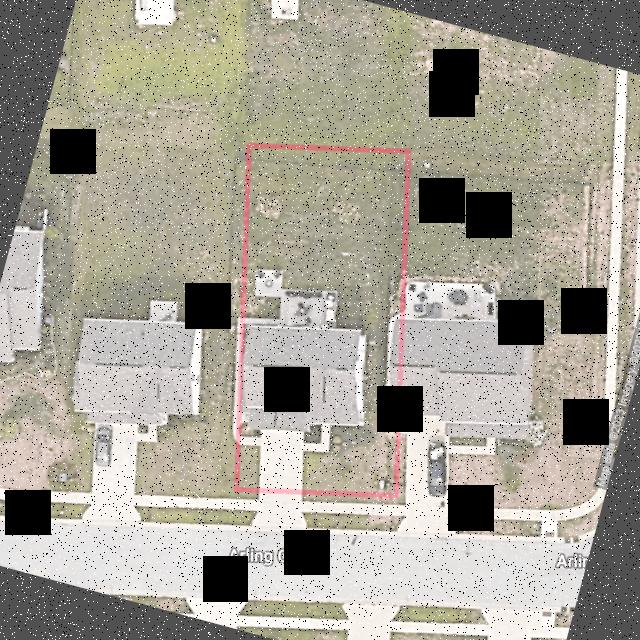Driveway: (239, 424, 330, 489)
Extra Driveway: (250, 492, 305, 527)
Extra Lawn: (300, 511, 395, 531), (300, 494, 396, 504), (233, 509, 257, 525), (233, 491, 258, 500)
Extra Sidewalk: (300, 501, 396, 515), (233, 498, 257, 510)
House: (240, 324, 365, 431)
Other: (253, 268, 337, 328)
Sidewalk: (244, 318, 278, 324)
